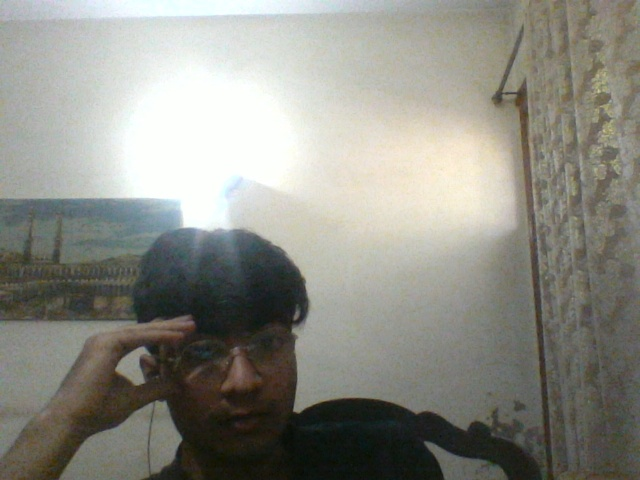surprised: (173, 312, 317, 469)
